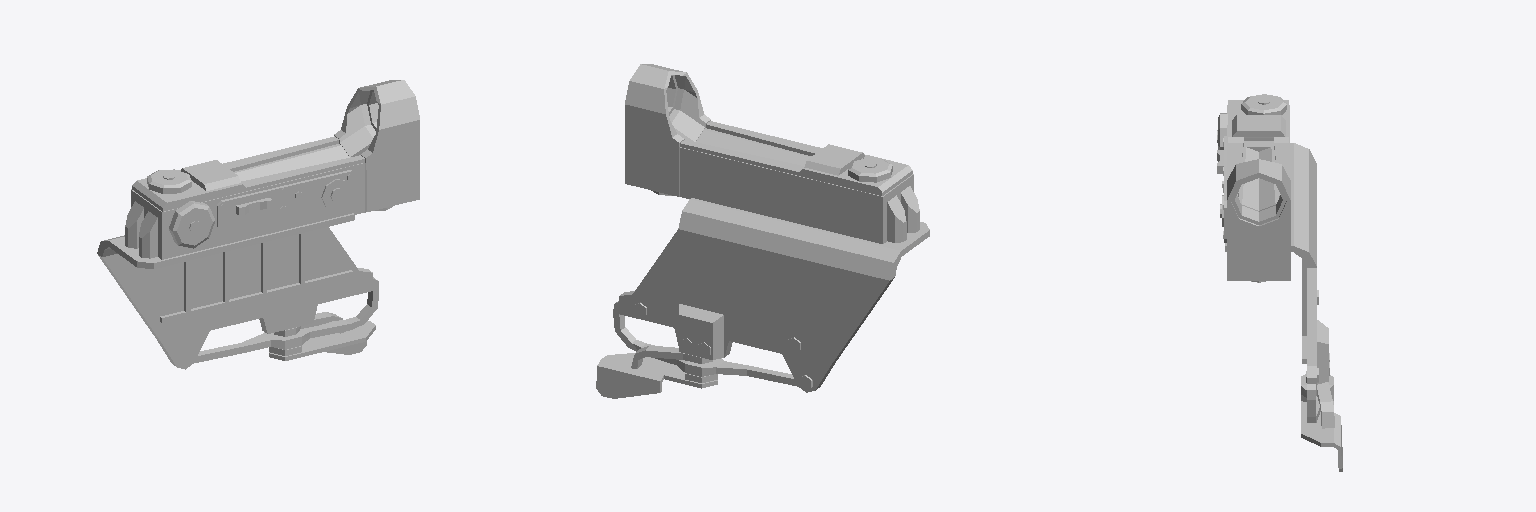
File: kobra.obj
3 renders of one model, left to right at view 1: azimuth 30°, elevation 25°; view 2: azimuth 150°, elevation 25°; view 3: azimuth 270°, elevation 25°, orthographic.
Parts seen in each view (by area): view 1: attachmentModel; view 2: attachmentModel; view 3: attachmentModel.
Part boxes in pixels (x1,y1,x2,y2): attachmentModel: (97,80,419,369); attachmentModel: (596,64,929,398); attachmentModel: (1217,94,1342,471).
Bounding box in the file's own units: 5.35 × 5.47 × 2.08.